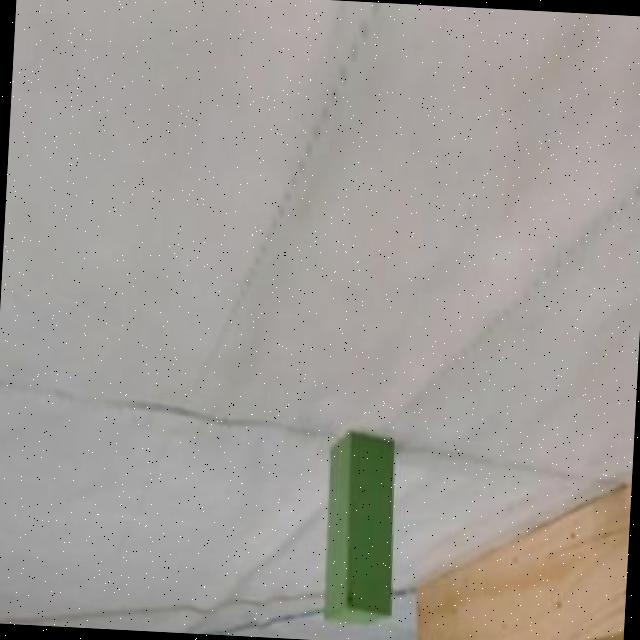greenbox: (321, 428, 402, 630)
